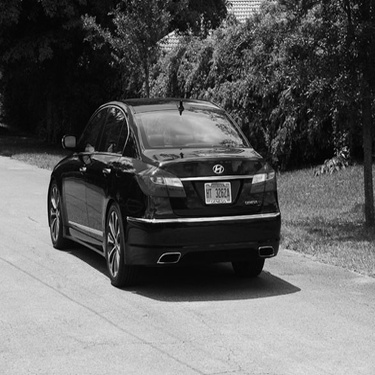car: (37, 76, 289, 296)
